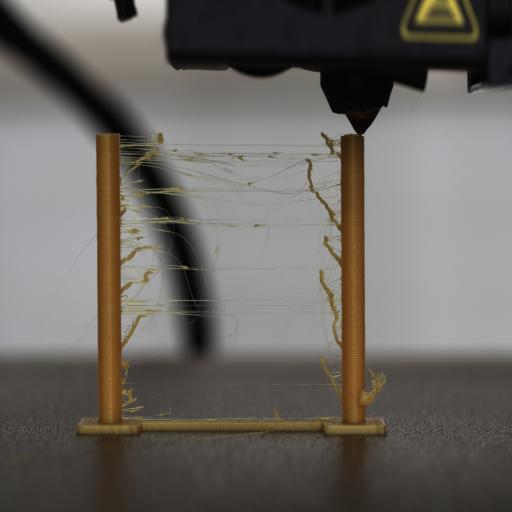stringing: (119, 130, 343, 349)
